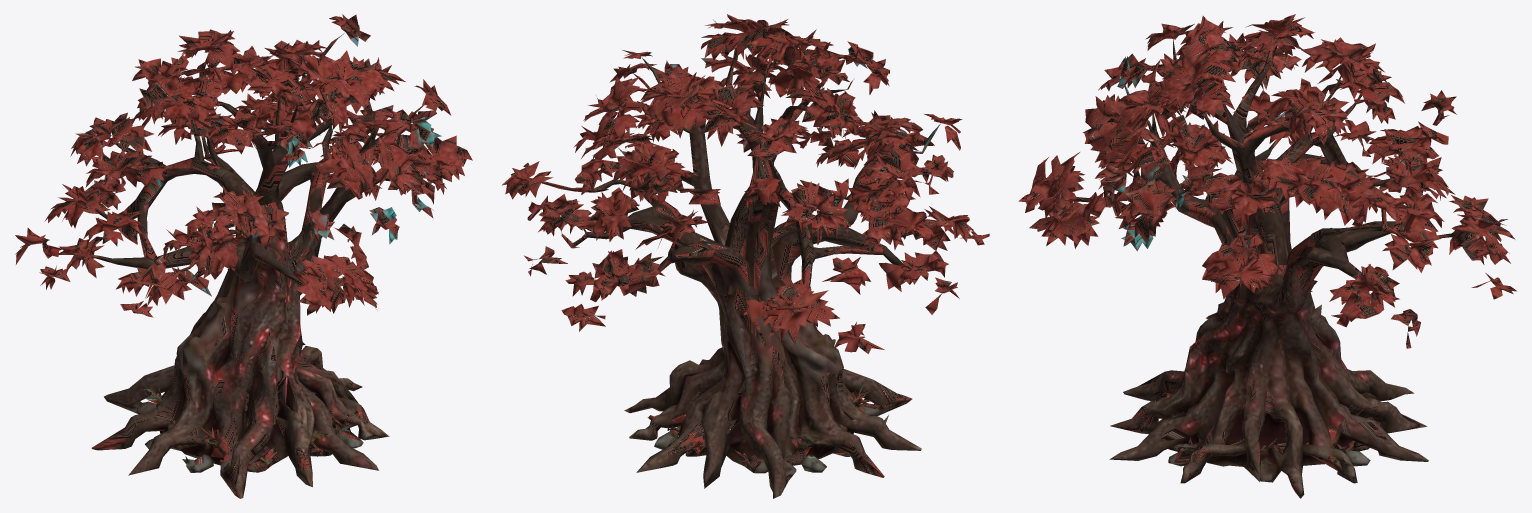
The model's file is fantasy-tree.glb.
The picture shows the model from 3 angles, left to right: view 1: azimuth 30°, elevation 25°; view 2: azimuth 150°, elevation 25°; view 3: azimuth 270°, elevation 25°; orthographic projection. The views are drawn at different scales.
Visible parts, largest first — view 1: tripo_node_1826a5c7-7786-42d4-a7db-57e3a0628828; view 2: tripo_node_1826a5c7-7786-42d4-a7db-57e3a0628828; view 3: tripo_node_1826a5c7-7786-42d4-a7db-57e3a0628828.
Boxes of the visible parts, <box> form: tripo_node_1826a5c7-7786-42d4-a7db-57e3a0628828: <box>15,14,472,498</box>; tripo_node_1826a5c7-7786-42d4-a7db-57e3a0628828: <box>502,14,989,498</box>; tripo_node_1826a5c7-7786-42d4-a7db-57e3a0628828: <box>1018,14,1516,498</box>.
Bounding box in the file's own units: 0.9893 × 0.907 × 1.
Materials: 1 (1 with a texture image).
